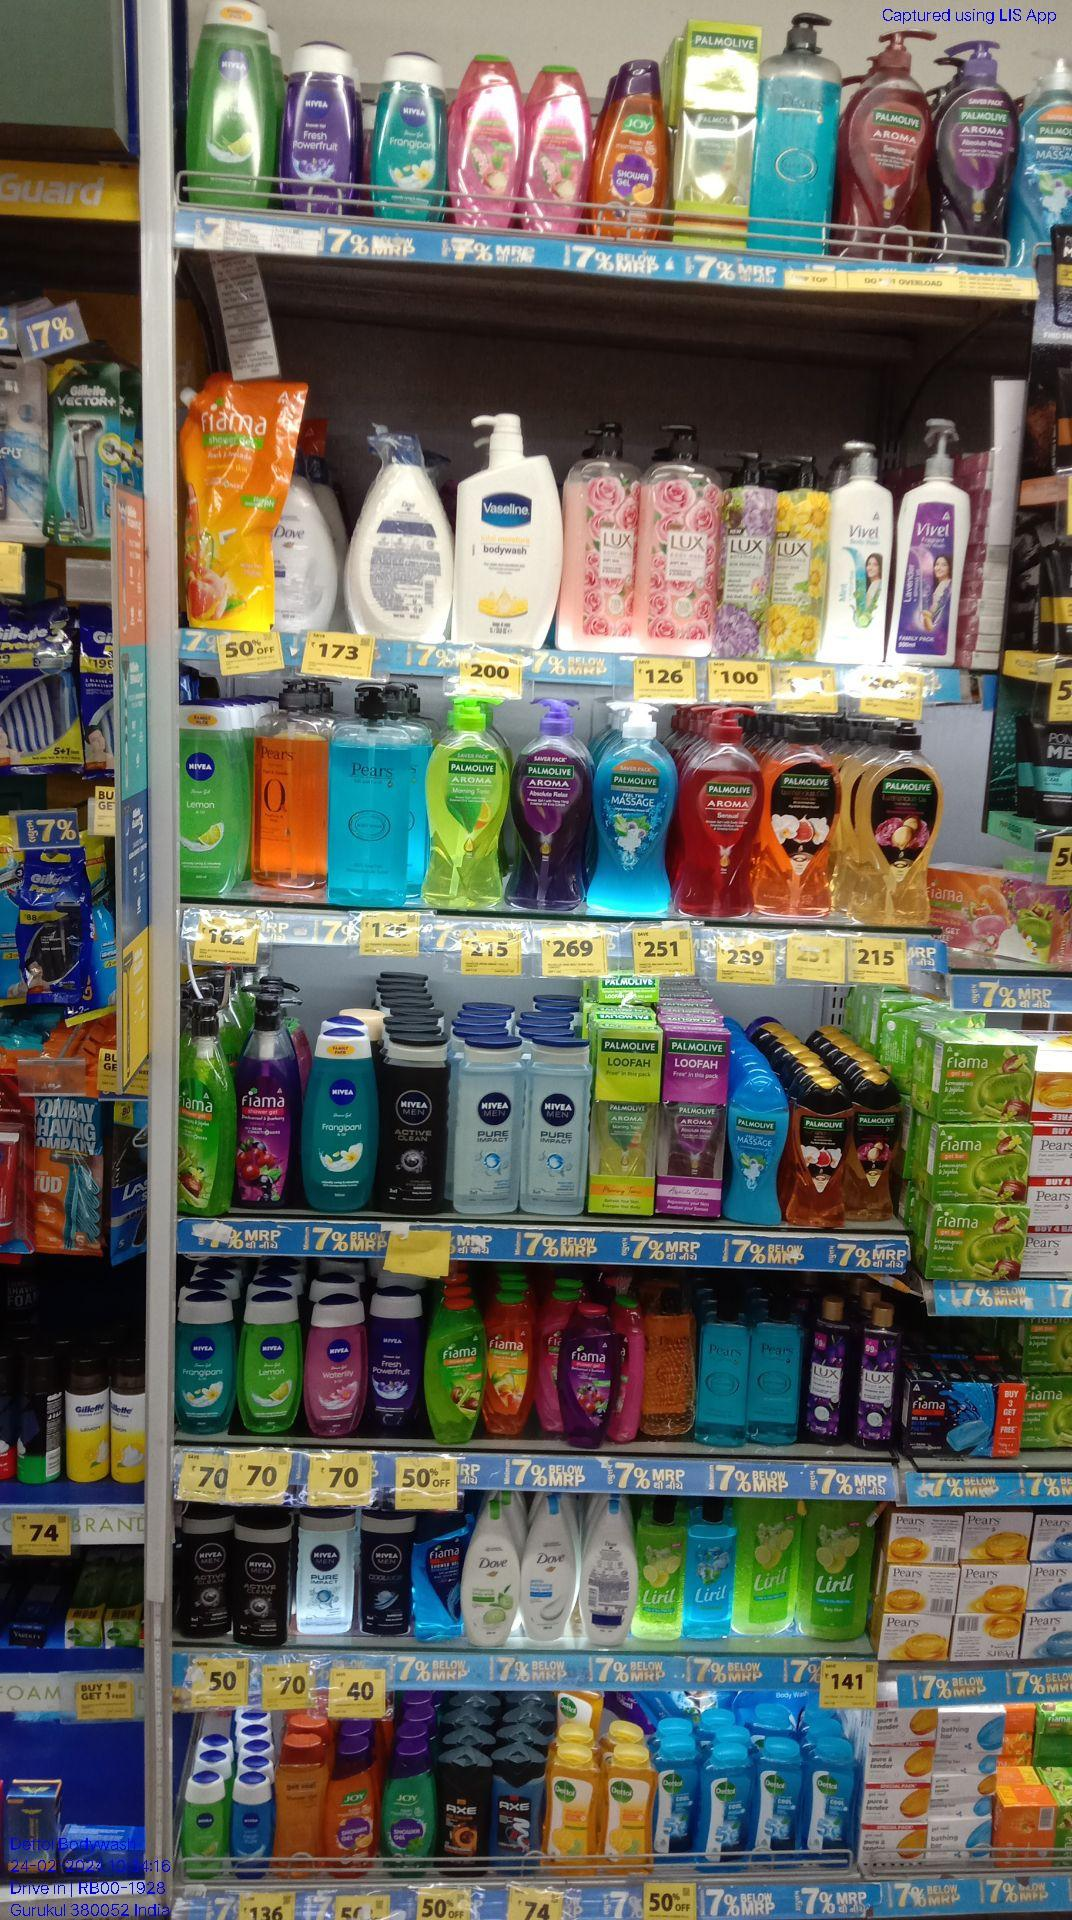Dettol_Bodywash_Cool: (701, 1751, 758, 1870), (808, 1746, 856, 1870), (761, 1749, 803, 1861)
Dettol_Bodywash_Refresh: (601, 1751, 657, 1878), (546, 1747, 599, 1875)
Dove_Gentle_Exfoliating_Body_Wash_250ML: (525, 1505, 576, 1644)
Dove_Refreshing_Body_Wash_250ML: (462, 1505, 520, 1648)
Fiama_Shower_Gel_Lemongrass_and_Jojoba_250ML: (425, 1302, 480, 1441)
Fiama_Shower_Gel_Patchouli_and_Macadamia_250ML: (456, 58, 522, 232), (530, 66, 589, 237)
Fiama_Shower_Gel_Peach_and_Avocado_250ML: (485, 1298, 537, 1439)
Get_Real_Shower_Gel_Moisturising_Glycerin_300ML: (274, 1746, 328, 1875)
Joy_Shower_Gel_Mandarin_and_Lemongrass_250ML: (593, 54, 666, 247), (331, 1749, 382, 1879)
Joy_Shower_Gel_Mint_and_Eucalyptus_250ML: (381, 1749, 434, 1875)
Liril_Cooling_Mint_Body_Wash_250ML: (691, 1506, 734, 1644)
Liril_Lime_and_Tea_Tree_Oil_Body_Wash_250ML: (633, 1506, 686, 1642)
Lux_Black_Orchid_Scent_and_Juniper_Oil_Body_Wash_245ML: (806, 1298, 852, 1449), (857, 1304, 897, 1456)
Nivea_Shower_Gel_Frangipani_and_Oil_250ML: (298, 1030, 380, 1215), (364, 51, 450, 225), (175, 1292, 233, 1433)
Nivea_Shower_Gel_Fresh_Powerfruit_250ML: (282, 46, 356, 212), (364, 1294, 422, 1432)
Nivea_Shower_Gel_Lemon_and_Oil_250ML: (182, 704, 244, 895), (240, 1296, 302, 1433), (185, 1771, 227, 1879)
Nivea_Shower_Gel_Waterlily_and_Oil_250ML: (309, 1300, 361, 1437)
Palmolive_Aroma_Moments_Feel_The_Massage_Shower_Gel_250ML: (730, 1080, 787, 1228)
Palmolive_Luminous_Oils_Invigorating_Macadamia_Oil_With_Peony_250ML: (852, 1077, 905, 1221)
Palmolive_Luminous_Oils_With_White_Orchid_Shower_Gel_250ML: (787, 1087, 850, 1228)
Pears_Pure_Glycerin_and_Mint_Extracts_Body_Wash_250ML: (696, 1298, 753, 1447), (756, 1300, 802, 1447)
